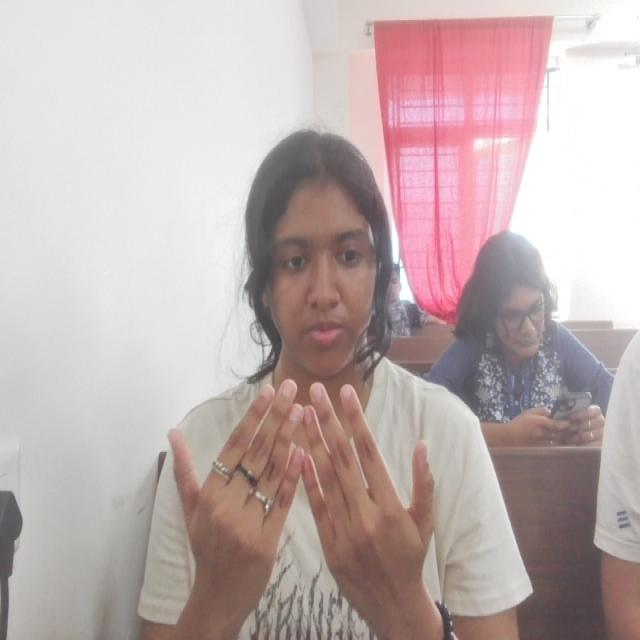thankyou: (167, 378, 440, 604)
